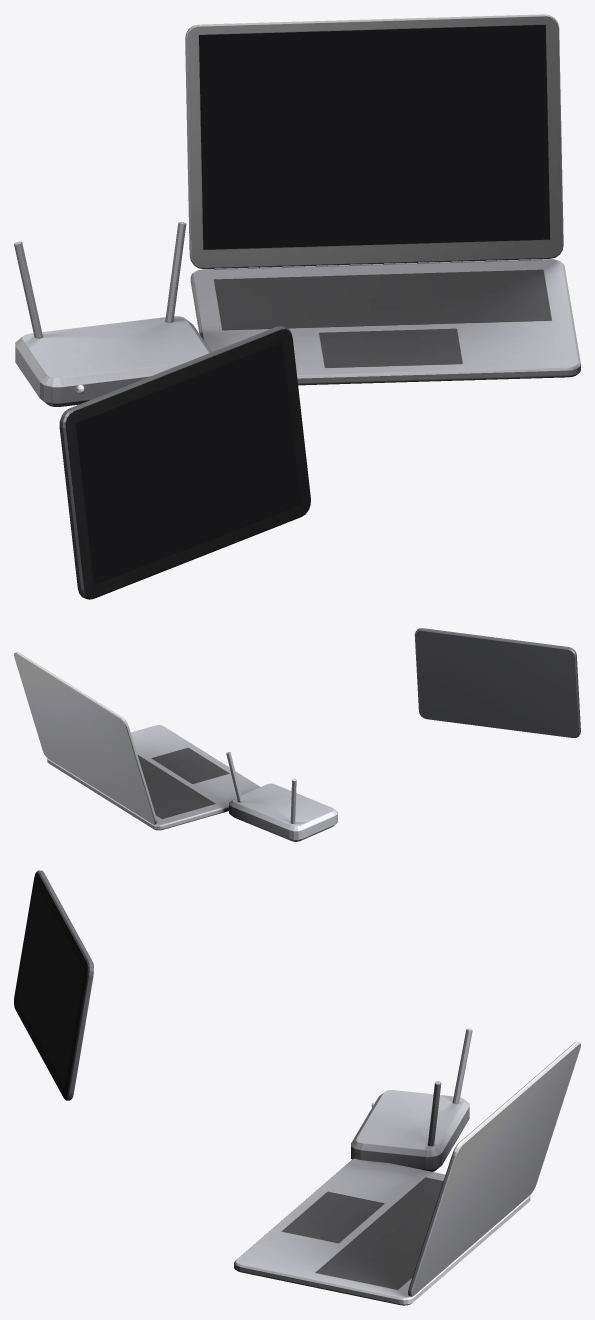
File: hero.glb
The picture shows the model from 3 angles, top to bottom: view 1: azimuth 30°, elevation 25°; view 2: azimuth 150°, elevation 25°; view 3: azimuth 270°, elevation 25°; orthographic projection. The views are drawn at different scales.
Visible parts, largest first — view 1: Screen_Laptop, Screen_Tablet, LaptopBase, LaptopLid, Keyboard, Tablet, Router, Trackpad, RouterAntenna0, RouterAntenna1; view 2: Tablet, LaptopLid, LaptopBase, Router, Keyboard, Trackpad; view 3: LaptopLid, LaptopBase, Screen_Tablet, Router, Keyboard, Tablet, Trackpad.
Boxes of the visible parts, x1,y1,x2,y2 form: Screen_Laptop: (199, 24, 550, 249); Screen_Tablet: (76, 342, 300, 584); LaptopBase: (190, 259, 580, 385); LaptopLid: (185, 14, 563, 268); Keyboard: (214, 269, 551, 330); Tablet: (59, 326, 310, 599); Router: (15, 316, 211, 406); Trackpad: (319, 328, 462, 367); RouterAntenna0: (14, 241, 42, 338); RouterAntenna1: (165, 222, 186, 322); Tablet: (414, 628, 580, 737); LaptopLid: (14, 652, 157, 824); LaptopBase: (47, 725, 259, 830); Router: (229, 783, 337, 841); Keyboard: (137, 755, 215, 818); Trackpad: (151, 747, 229, 783); LaptopLid: (408, 1041, 580, 1296); LaptopBase: (234, 1158, 530, 1305); Screen_Tablet: (16, 882, 84, 1088); Router: (351, 1090, 469, 1171); Keyboard: (315, 1177, 443, 1289); Tablet: (14, 870, 93, 1100); Trackpad: (282, 1191, 384, 1243).
Size of what is drawn, in the model's own units: 0.7241 by 0.2012 by 0.6048.
Materials: 3 (1 with a texture image).
